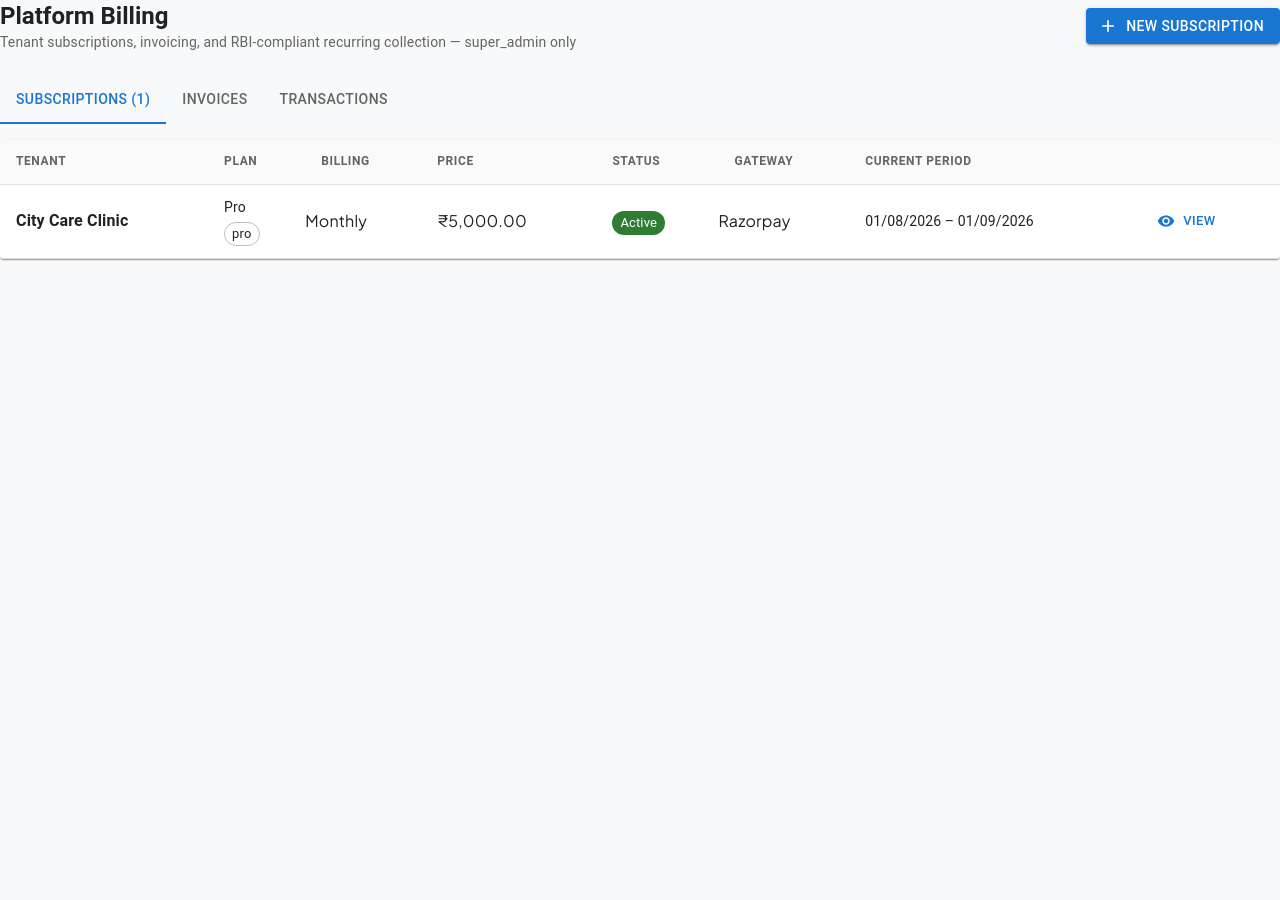
Test case: admin/PlatformBilling › requires typing the exact tenant name before Confirm Cancellation is enabled
Expected: the text "City Care Clinic" is shown, [16,211,128,230]
Click the button "View". click: (1187, 221)
box: [1154,206,1221,237]
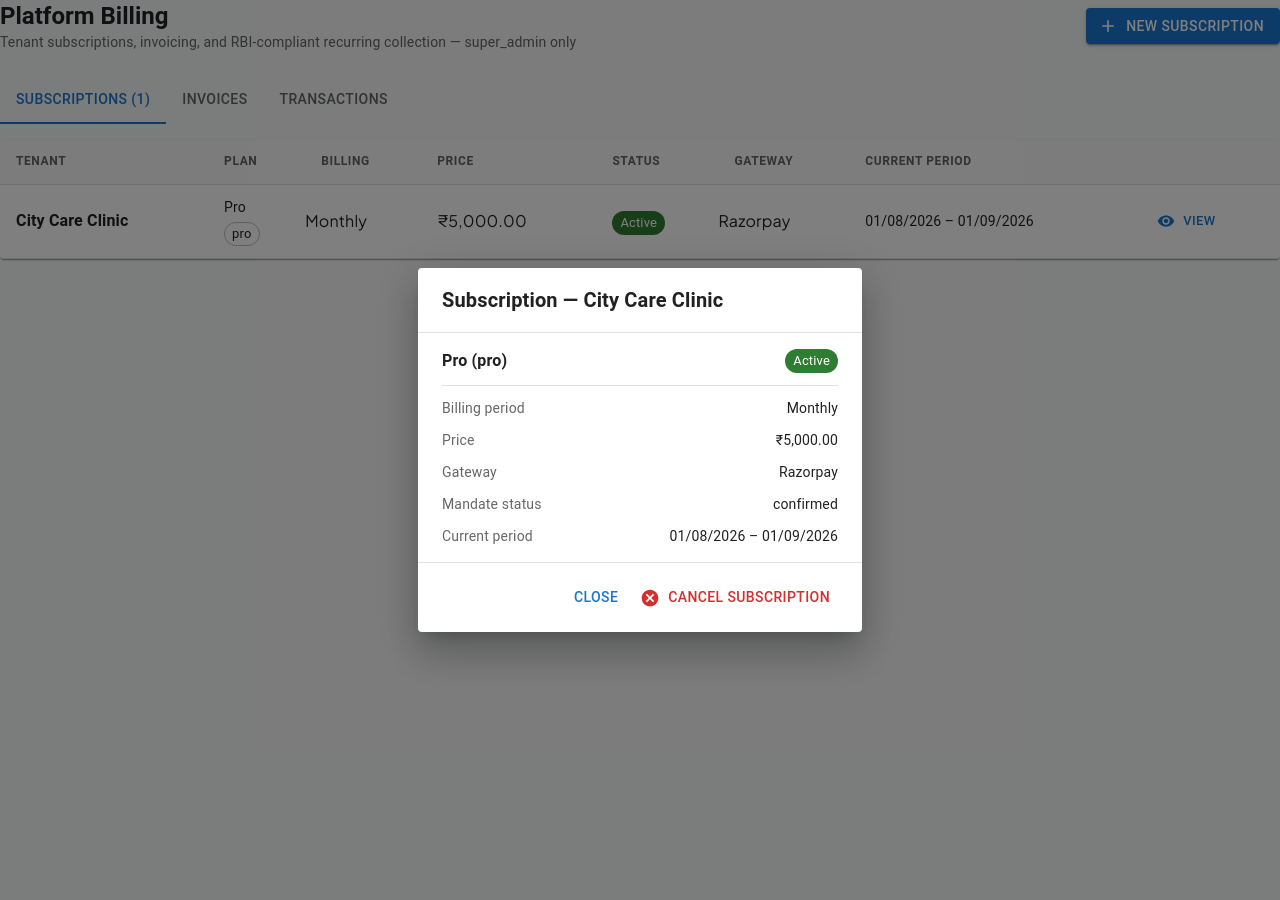
Click the button "Cancel Subscription". click: (737, 598)
box: [636,579,838,616]
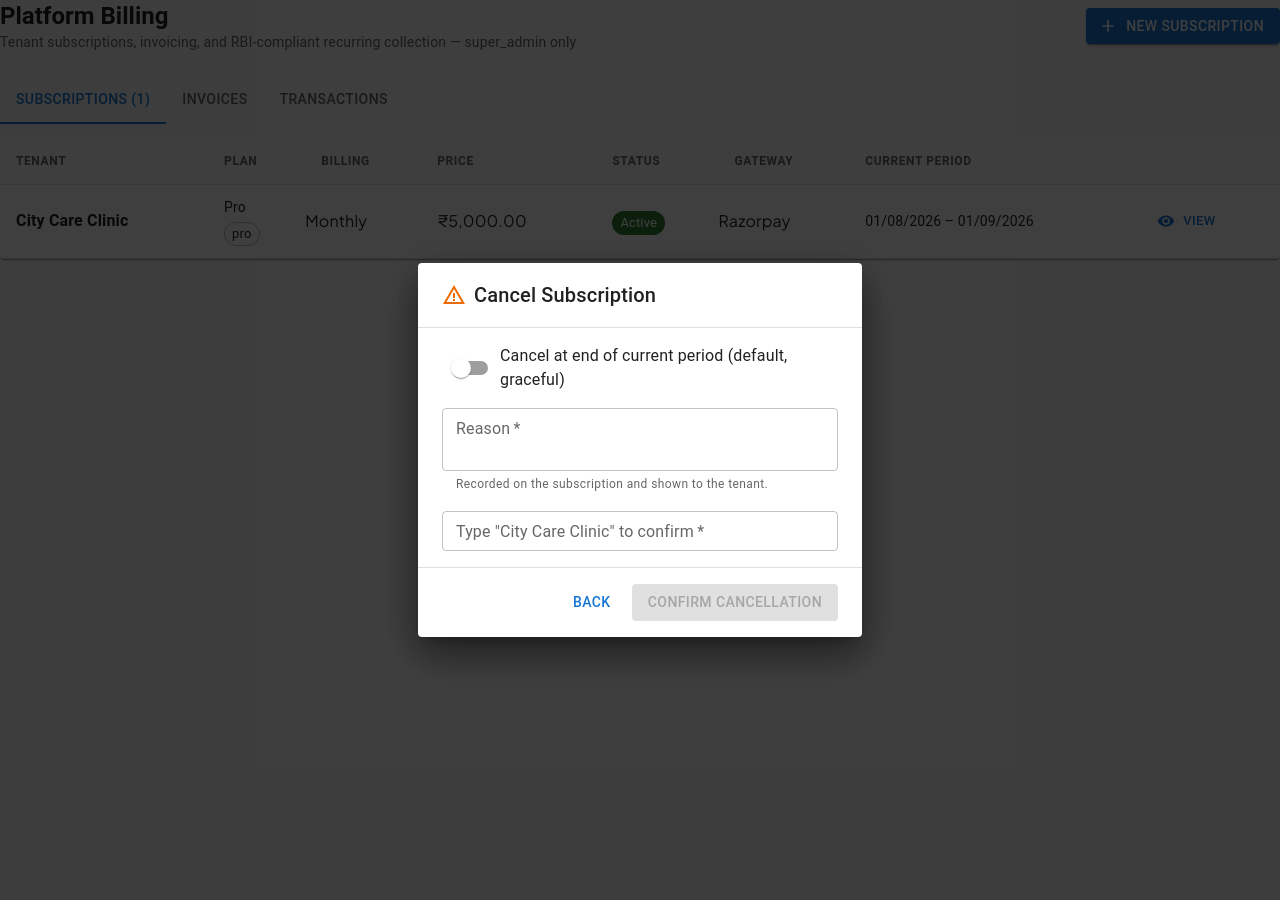
Now the button "Confirm Cancellation" is disabled, box [632,584,838,621]
Type "Non-payment" into the text box labelled "Reason *". click: (640, 440)
box: [456,417,824,463]
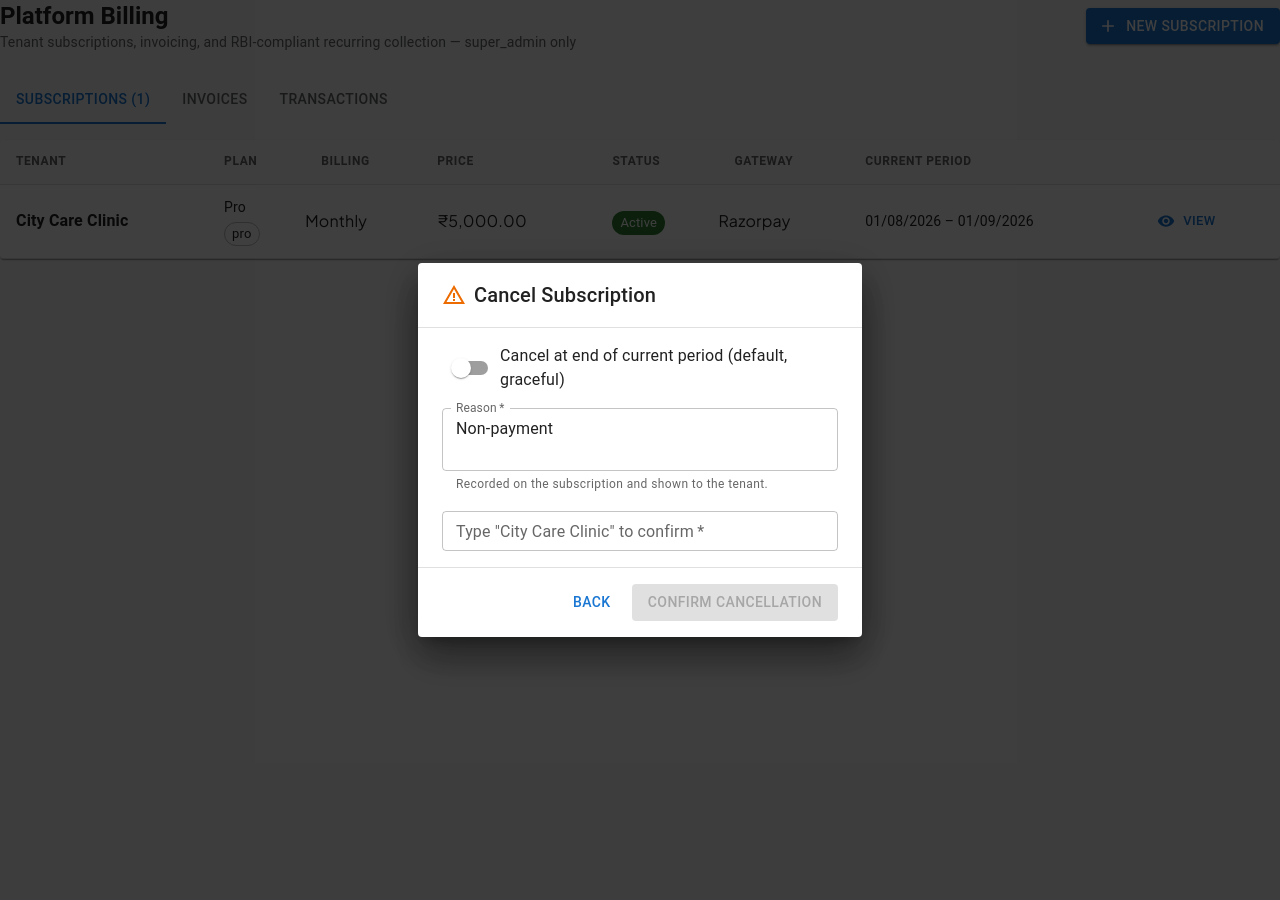
Type "wrong name" into the field labelled "Type \"City Care Clinic\" to confirm *". click: (640, 531)
box: [442,511,838,551]
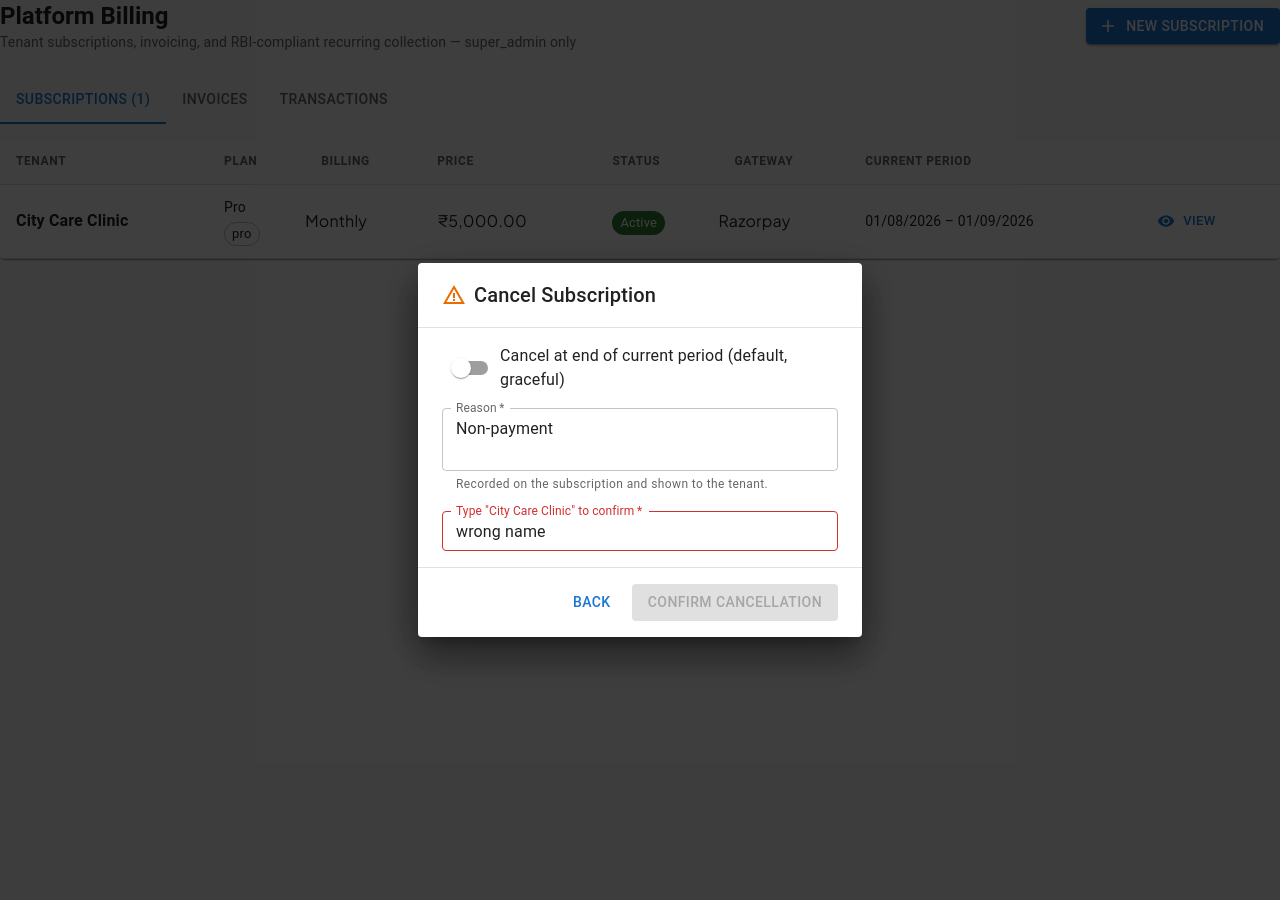
Now the button "Confirm Cancellation" is disabled, box [632,584,838,621]
Replace the text in the field labelled "Type \"City Care Clinic\" to confirm *" with "City Care Clinic". click: (640, 531)
box: [442,511,838,551]
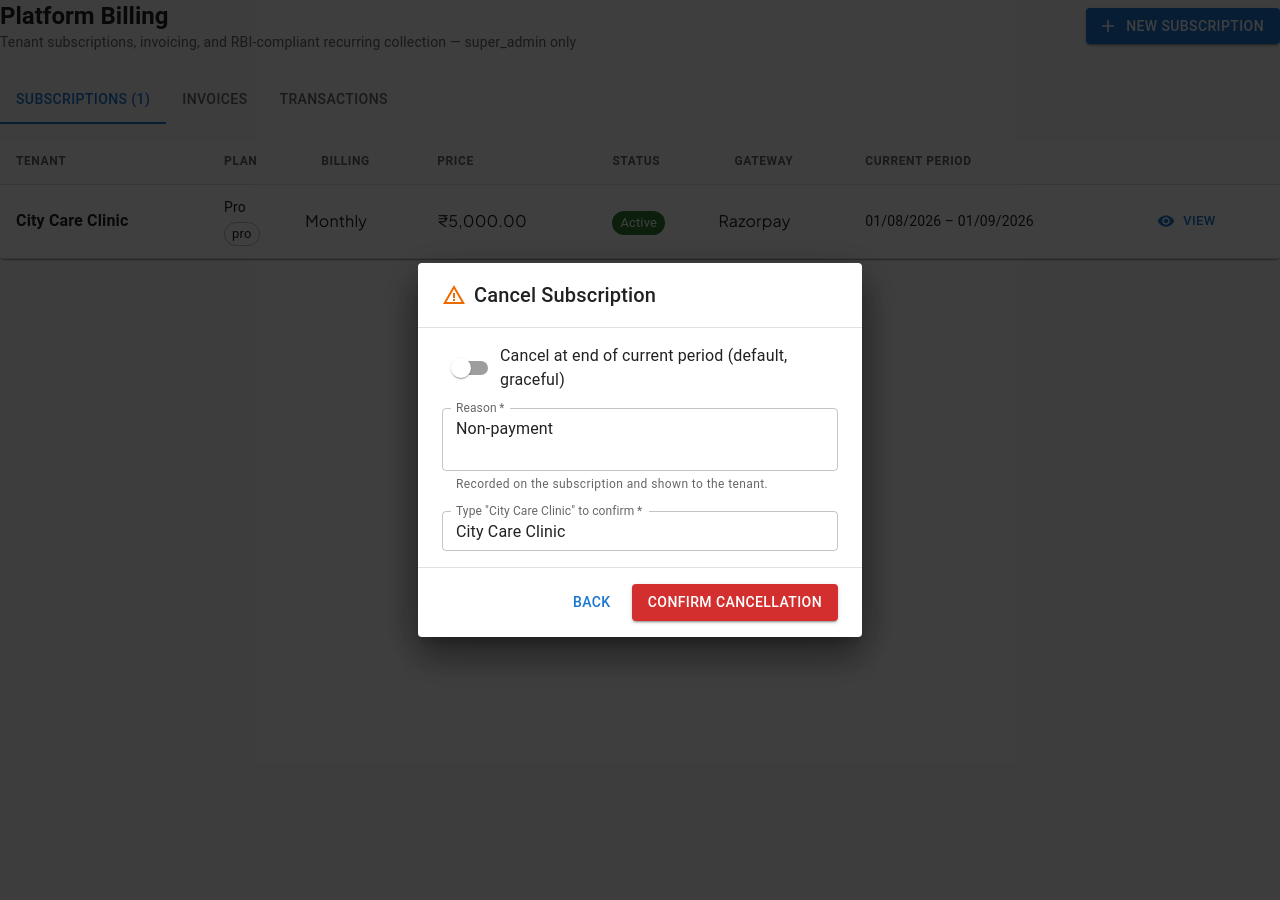
Now the button "Confirm Cancellation" is enabled, box [632,584,838,621]
